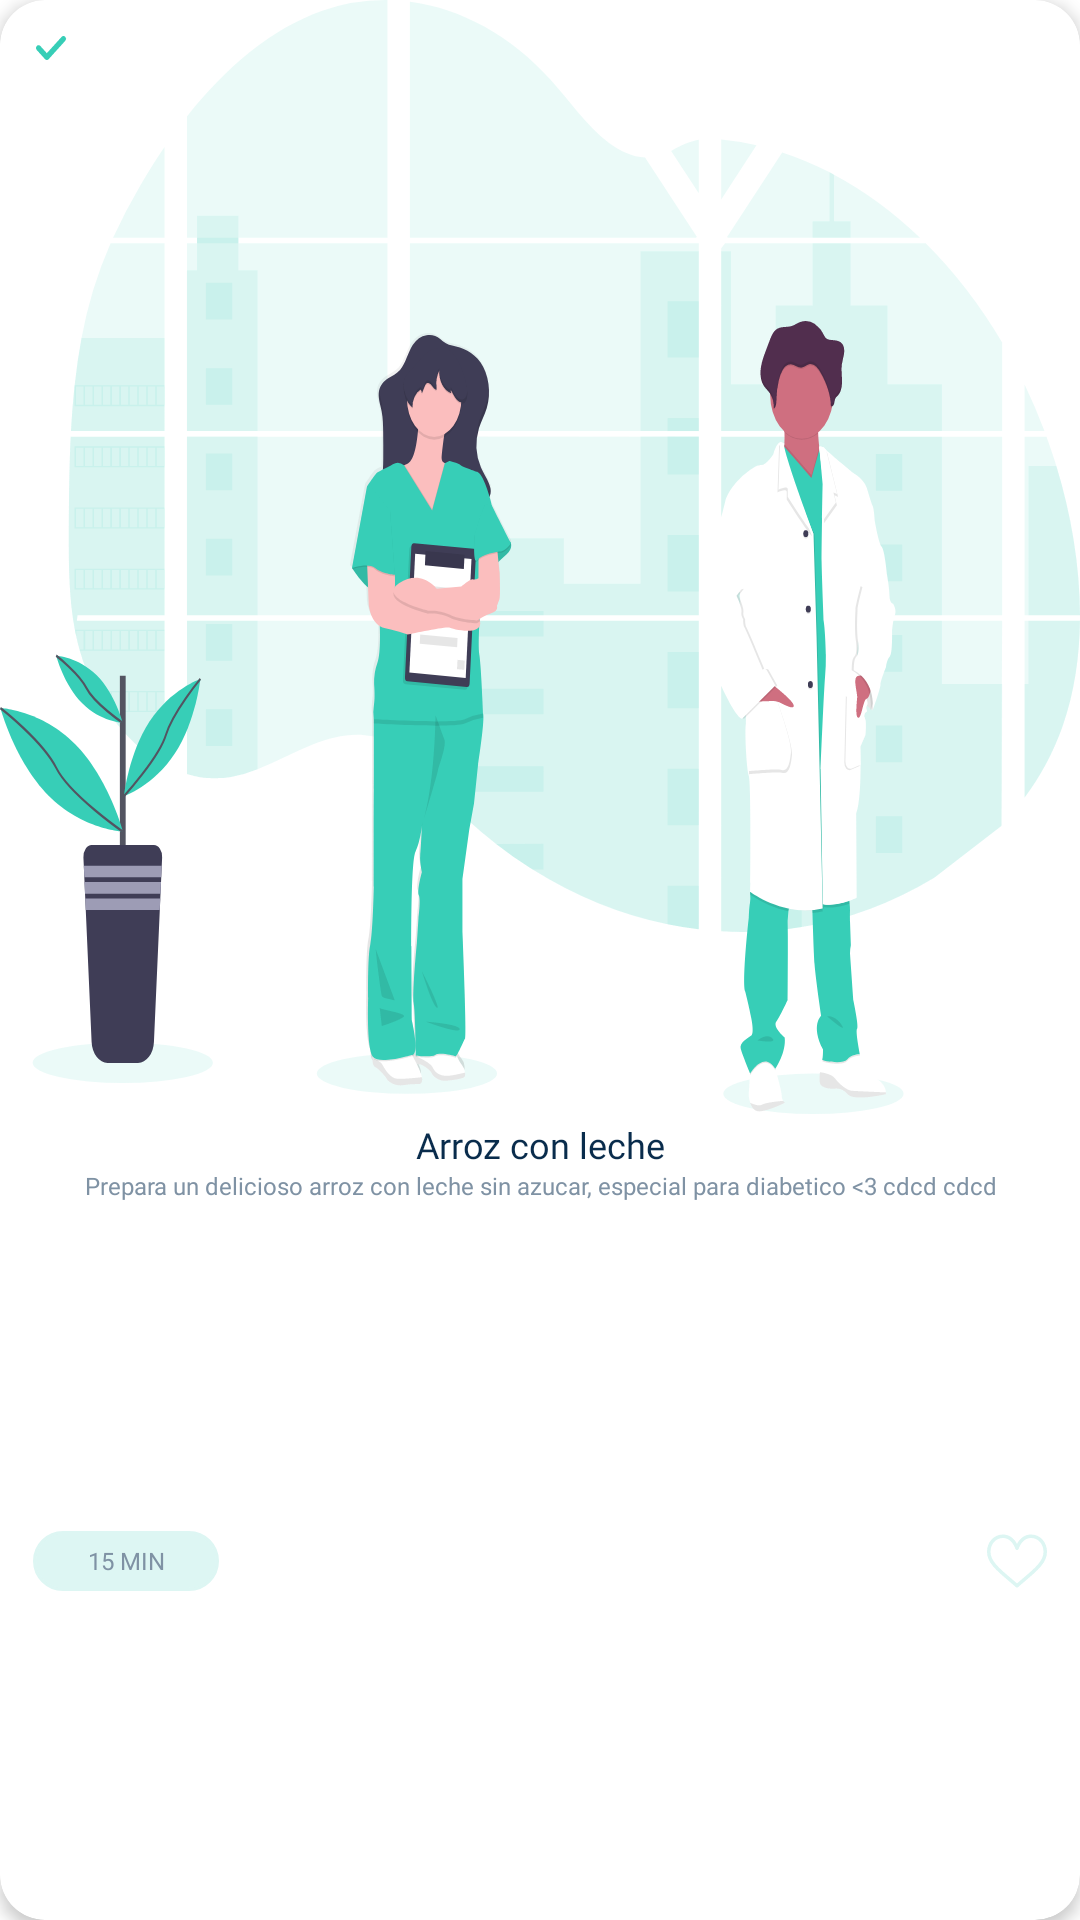

Icons on this 1080 × 1920 Android screen, each with its box as (x1, y1, x2, y2):
like: (987, 1535, 1047, 1587)
verri: (36, 36, 66, 60)
